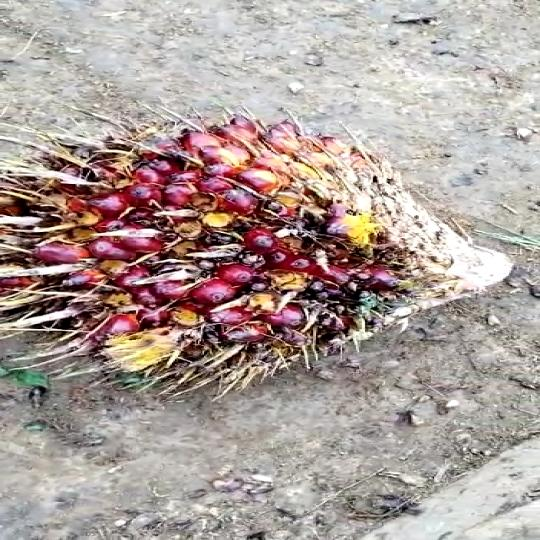masak: (0, 113, 508, 400)
